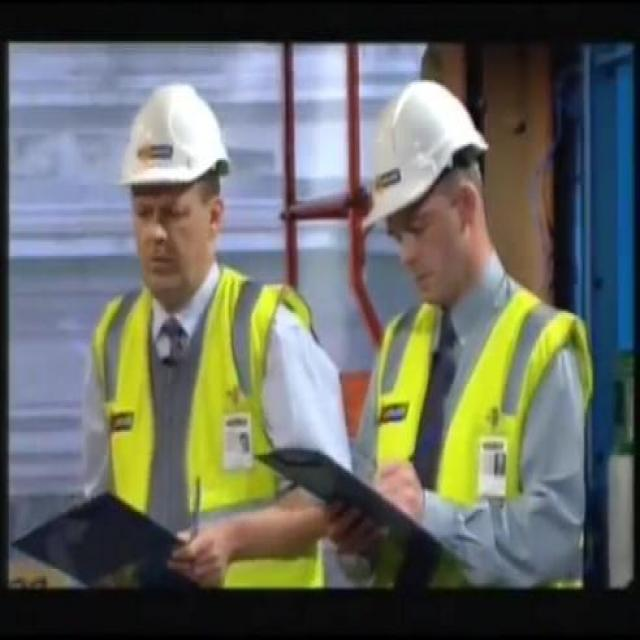Reflective-Jacket: (360, 283, 614, 599), (82, 270, 325, 592)
Safety-Helmet: (352, 70, 500, 236), (110, 75, 240, 208)
